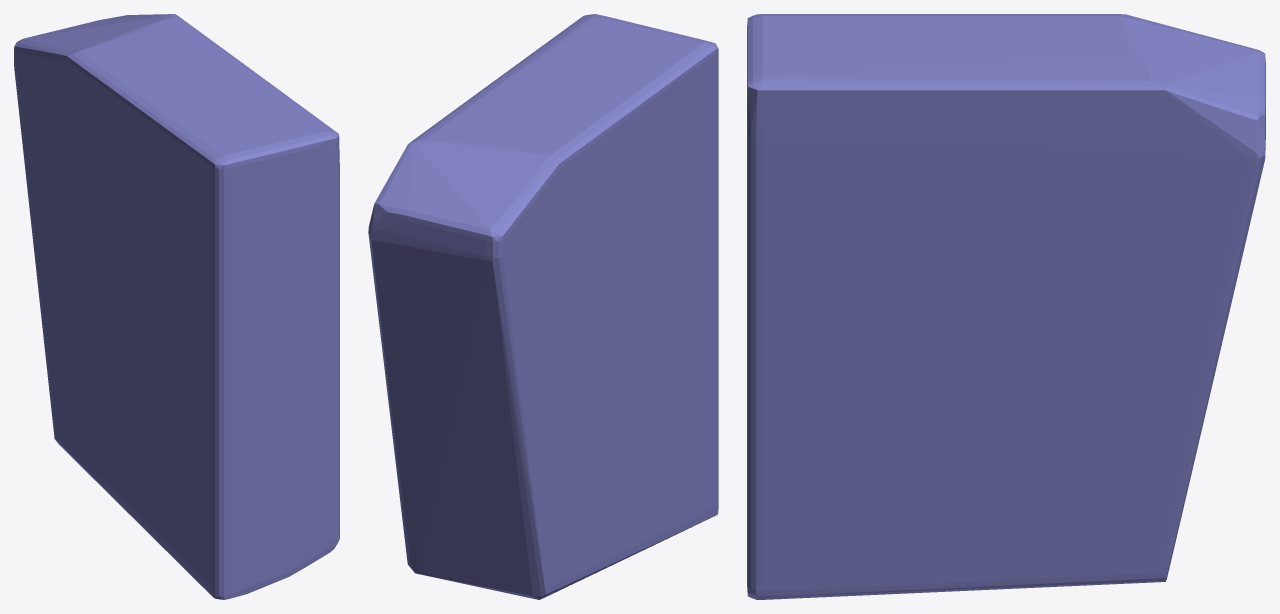
File: right_f_proximal_part_12.obj
3 renders of one model, left to right at view 1: azimuth 30°, elevation 25°; view 2: azimuth 150°, elevation 25°; view 3: azimuth 270°, elevation 25°, orthographic. The views are drawn at different scales.
Size of the model in its own units: 5.32 by 17.83 by 15.31.
